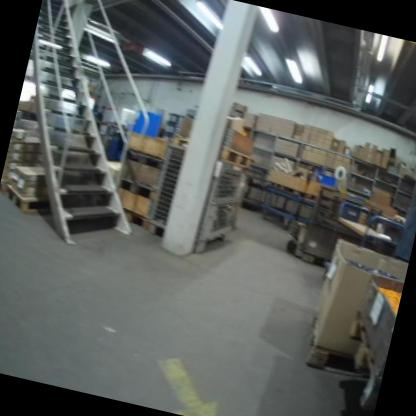pallet: (333, 310, 395, 413), (300, 310, 374, 386), (170, 135, 254, 172), (0, 182, 63, 218), (115, 175, 158, 199), (110, 204, 149, 229), (127, 148, 165, 168), (268, 181, 305, 198)
pallet_truck: (282, 163, 322, 256)
stillage: (146, 149, 249, 261), (297, 183, 379, 274)
